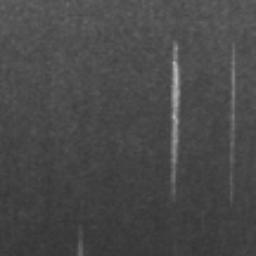Bright scratch: (170, 41, 180, 194), (230, 45, 235, 202)
